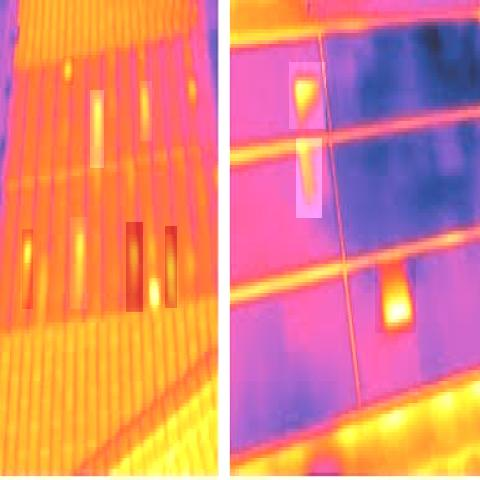fault: (375, 259, 416, 333), (289, 62, 326, 129), (296, 138, 322, 218), (70, 217, 87, 309), (126, 222, 143, 312), (90, 90, 104, 168), (166, 226, 178, 308), (22, 229, 33, 310), (140, 81, 152, 141), (149, 278, 161, 305), (63, 56, 74, 85)
